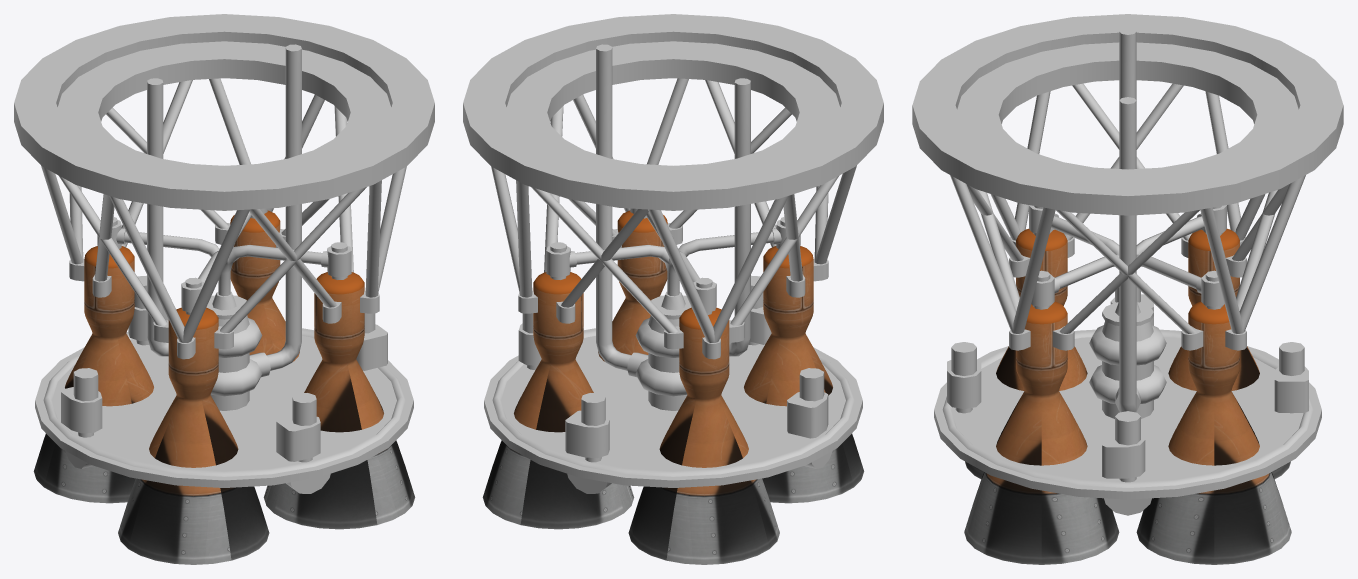
File: tantares_lv_engine_s1_3.obj
3 renders of one model, left to right at view 1: azimuth 30°, elevation 25°; view 2: azimuth 150°, elevation 25°; view 3: azimuth 270°, elevation 25°, orthographic. The views are drawn at different scales.
Visible parts, largest first — view 1: tantares_lv_engine_s1_3, tantares_lv_engine_s1_3_nozzles; view 2: tantares_lv_engine_s1_3, tantares_lv_engine_s1_3_nozzles; view 3: tantares_lv_engine_s1_3, tantares_lv_engine_s1_3_nozzles.
Boxes of the visible parts, <box> form: tantares_lv_engine_s1_3: <box>14,14,434,493</box>; tantares_lv_engine_s1_3_nozzles: <box>33,210,415,564</box>; tantares_lv_engine_s1_3: <box>463,14,883,493</box>; tantares_lv_engine_s1_3_nozzles: <box>482,210,864,564</box>; tantares_lv_engine_s1_3: <box>912,14,1343,515</box>; tantares_lv_engine_s1_3_nozzles: <box>964,228,1291,564</box>.
Bounding box in the file's own units: 1.25 × 1.38 × 1.25.
